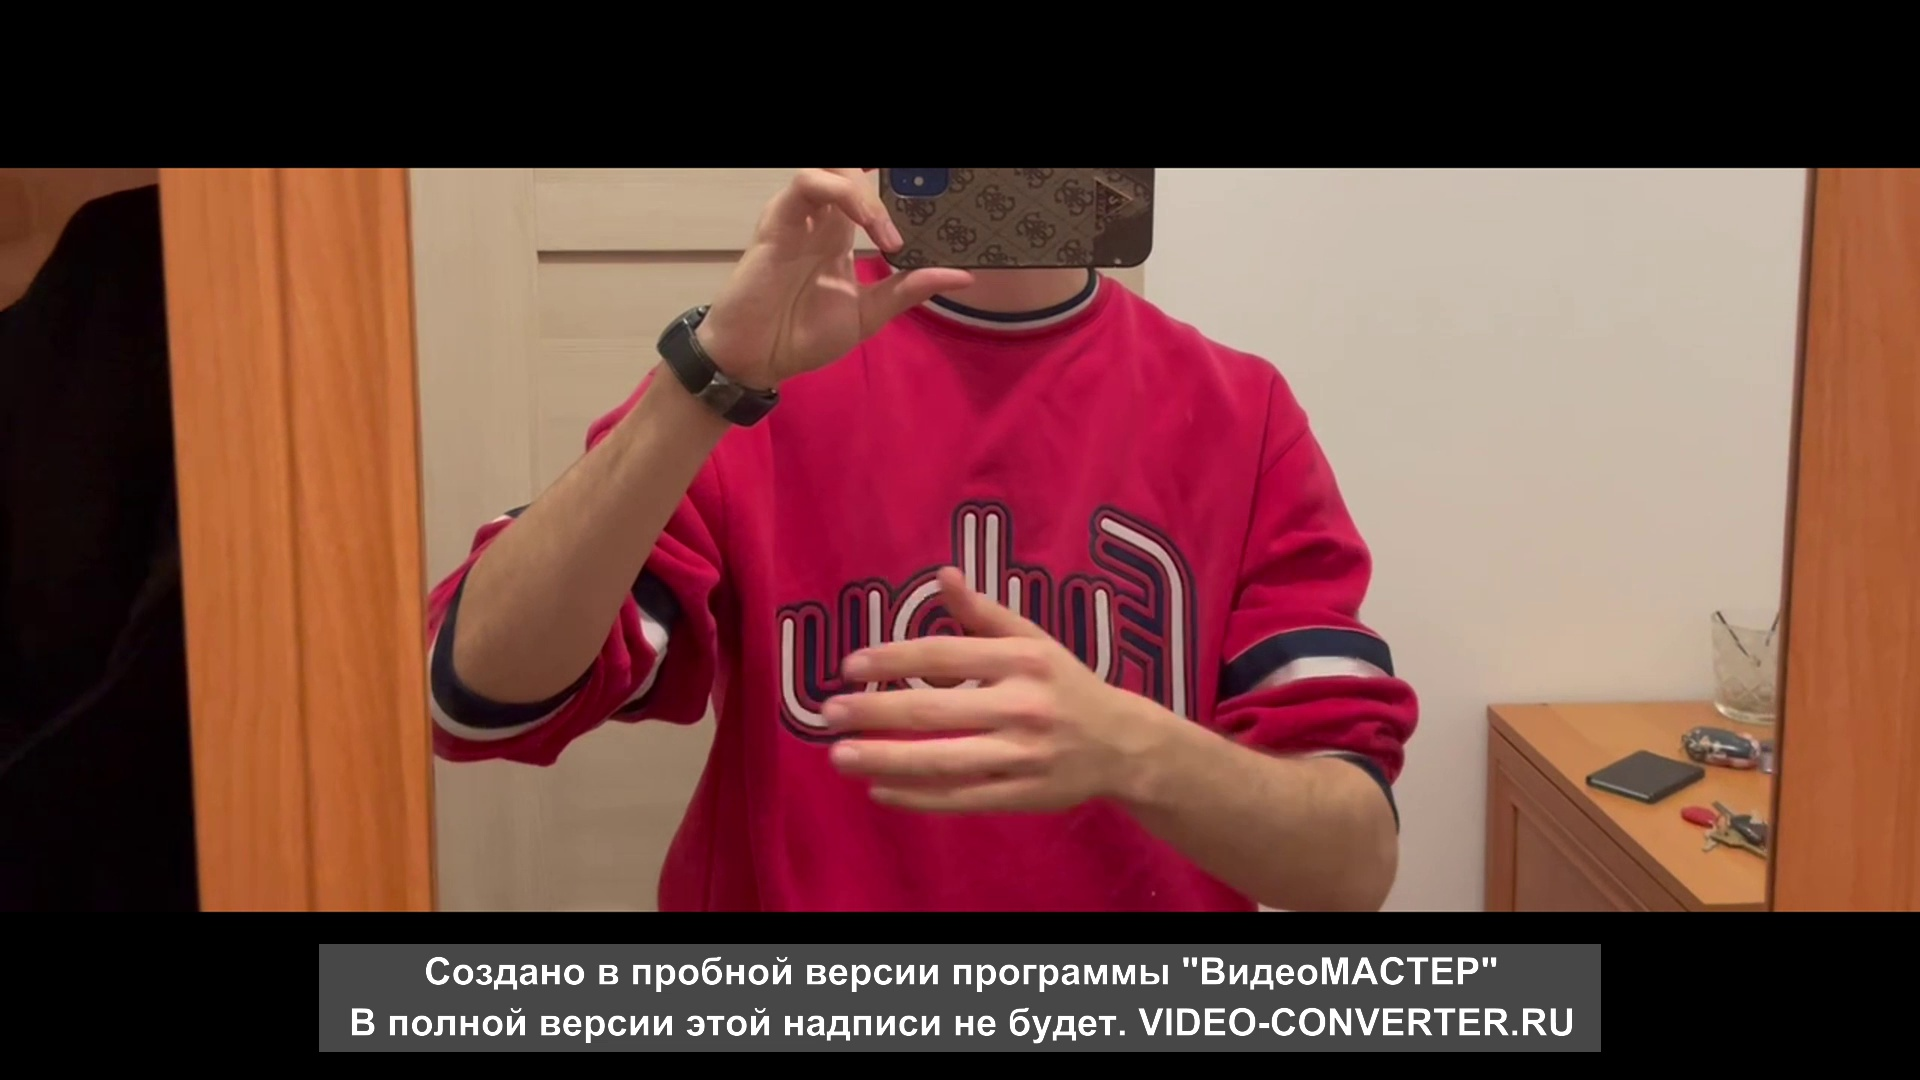Кисть: (825, 567, 1114, 818)
